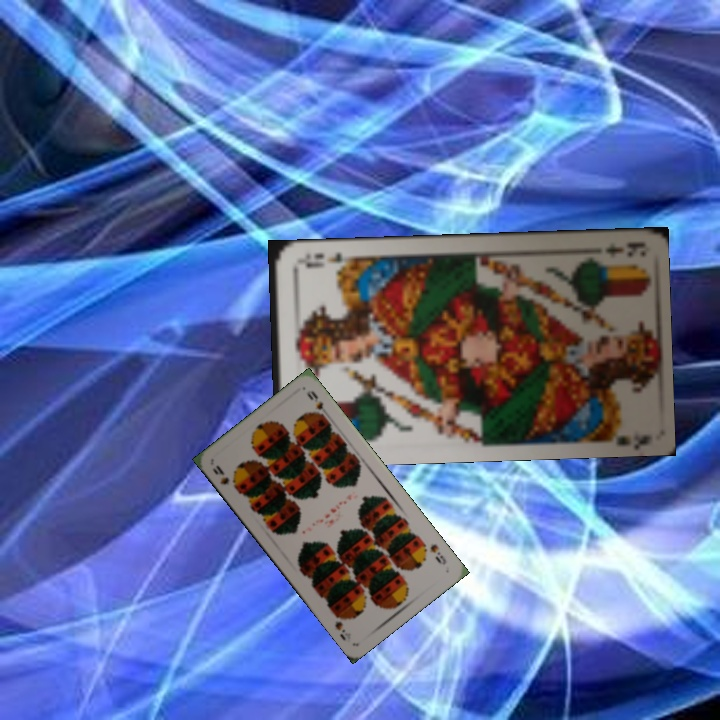EK: (601, 238, 642, 260)
S9: (208, 461, 240, 494), (426, 540, 449, 568)
